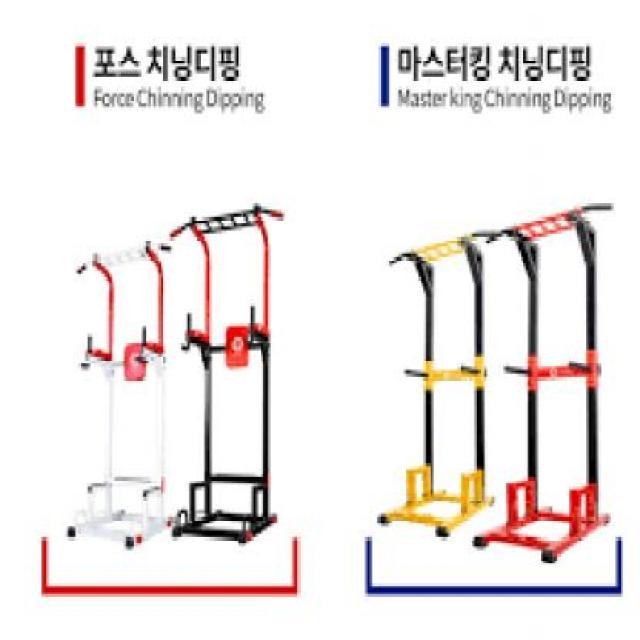chinning dipping: (474, 195, 615, 563), (171, 203, 286, 548)
